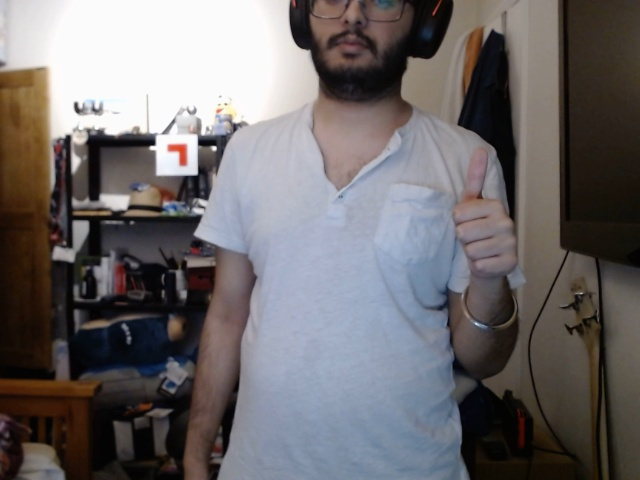Thumbs up: (441, 145, 526, 290)
